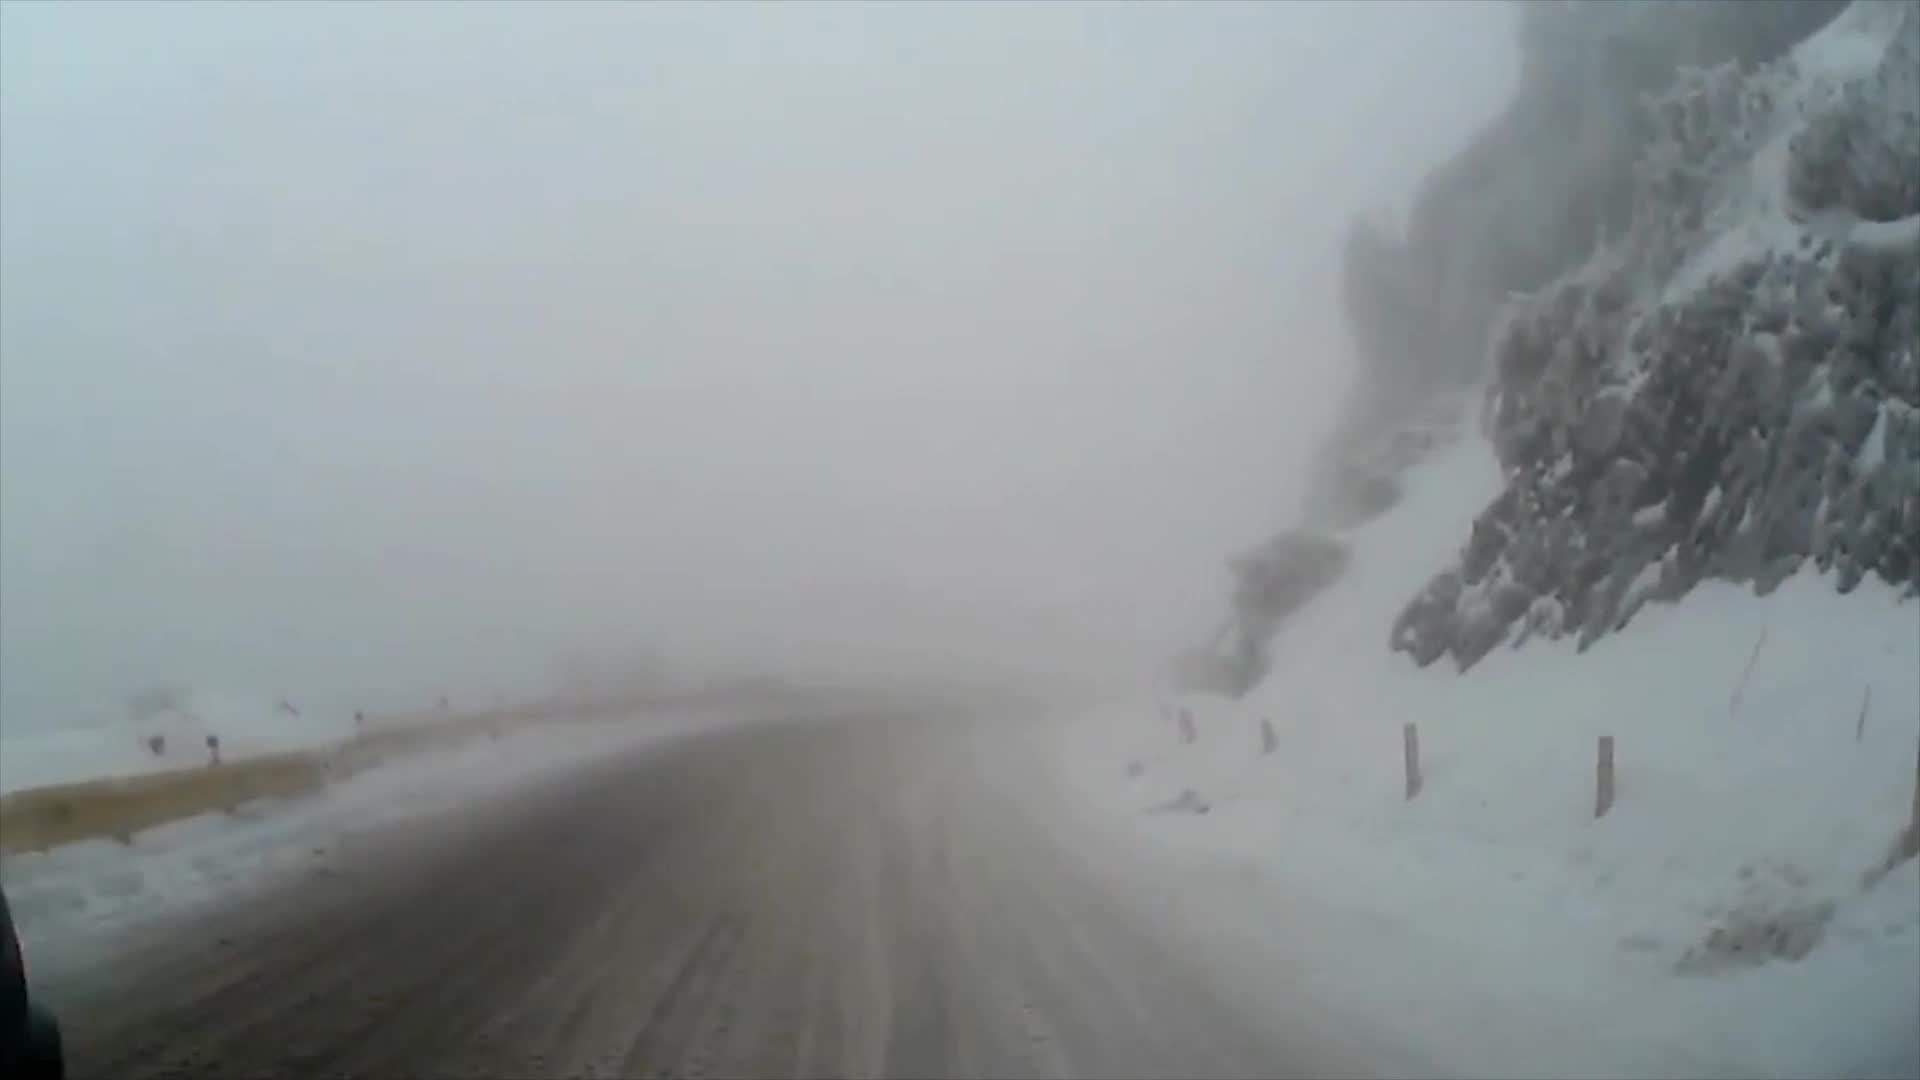vehicle: (0, 884, 65, 1079)
